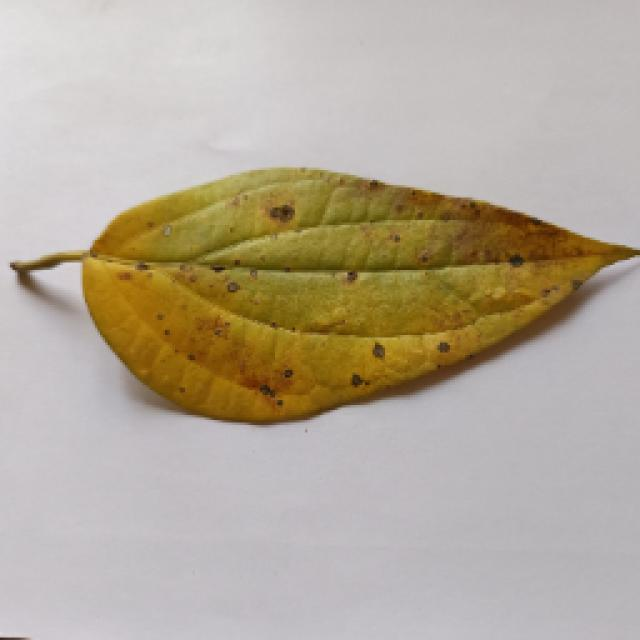slow-decline: (8, 162, 628, 420)
